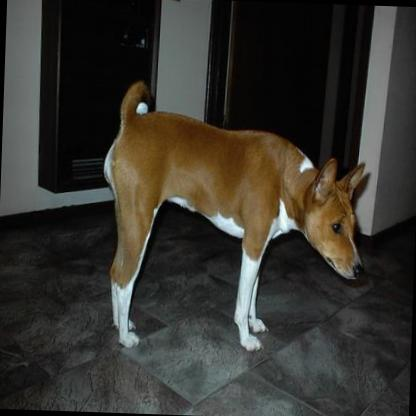basenji: (98, 80, 368, 358)
